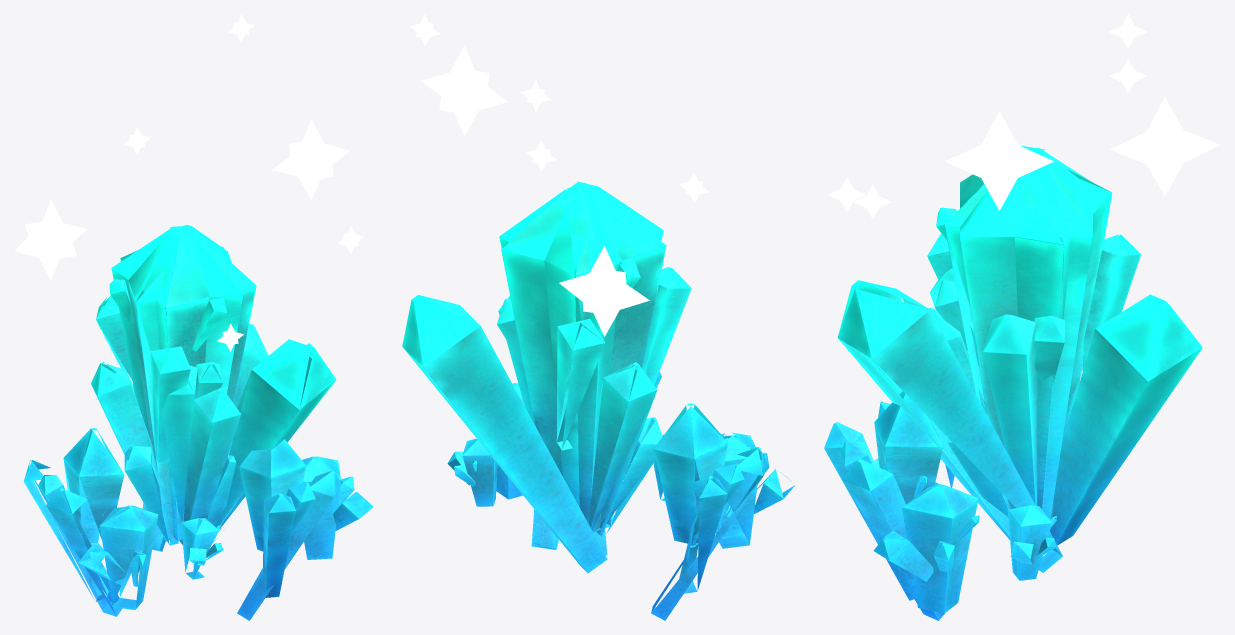
The model's file is crystal2.glb.
The picture shows the model from 3 angles, left to right: view 1: azimuth 30°, elevation 25°; view 2: azimuth 150°, elevation 25°; view 3: azimuth 270°, elevation 25°; orthographic projection. The views are drawn at different scales.
Parts seen in each view (by area): view 1: Plane_Mat_0.002, Plane, Cube.004; view 2: Plane, Plane_Mat_0.002, Cube.004; view 3: Plane, Plane_Mat_0.002, Cube.004, Plane_Mat_0.001.
Boxes of the visible parts, <box> form: Plane_Mat_0.002: <box>23,225,336,616</box>; Plane: <box>111,225,373,620</box>; Cube.004: <box>15,14,364,351</box>; Plane: <box>402,181,691,573</box>; Plane_Mat_0.002: <box>499,182,794,620</box>; Cube.004: <box>410,14,709,336</box>; Plane: <box>824,148,1202,620</box>; Plane_Mat_0.002: <box>837,145,1141,572</box>; Cube.004: <box>828,14,1220,218</box>; Plane_Mat_0.001: <box>827,237,1089,554</box>.
Size of what is drawn, in the model's own units: 2.04 by 3.36 by 1.87.
2 materials, 1 textured.
